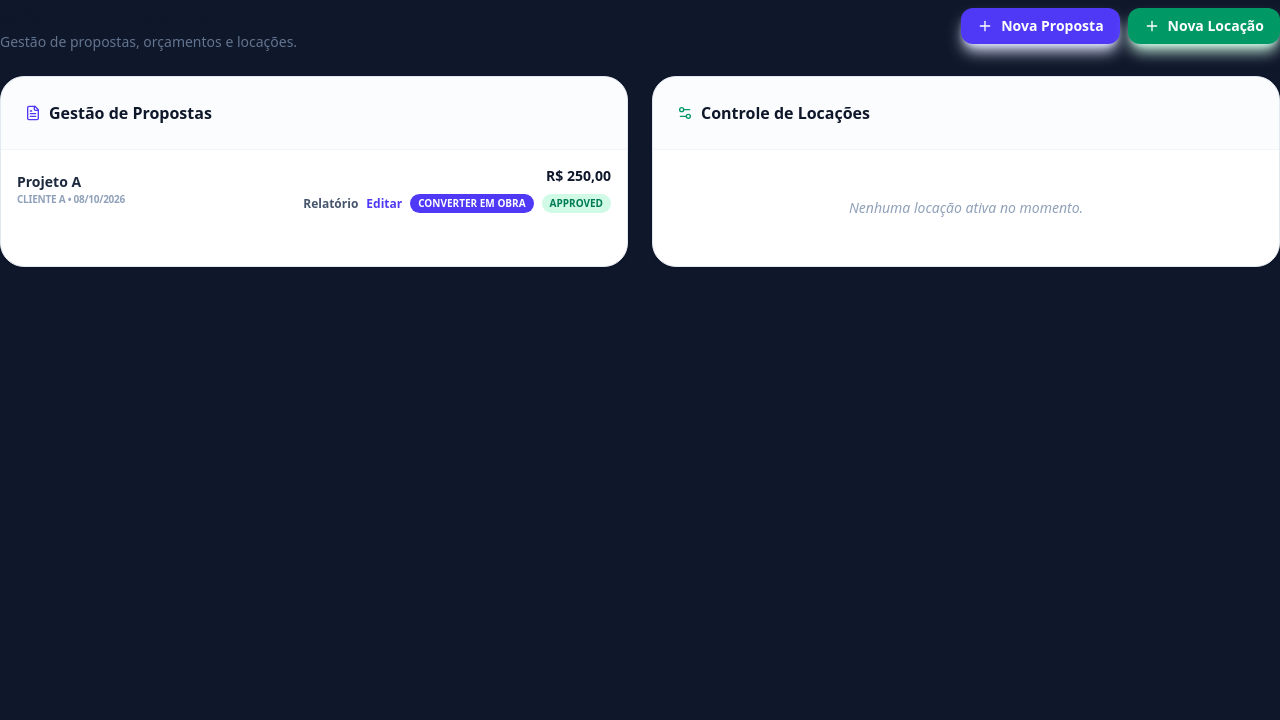
Test case: report button opens the selected proposal with the active company
Click the button with aria-label "Relatório da proposta Projeto A" at (331, 204), box [303,196,358,212]
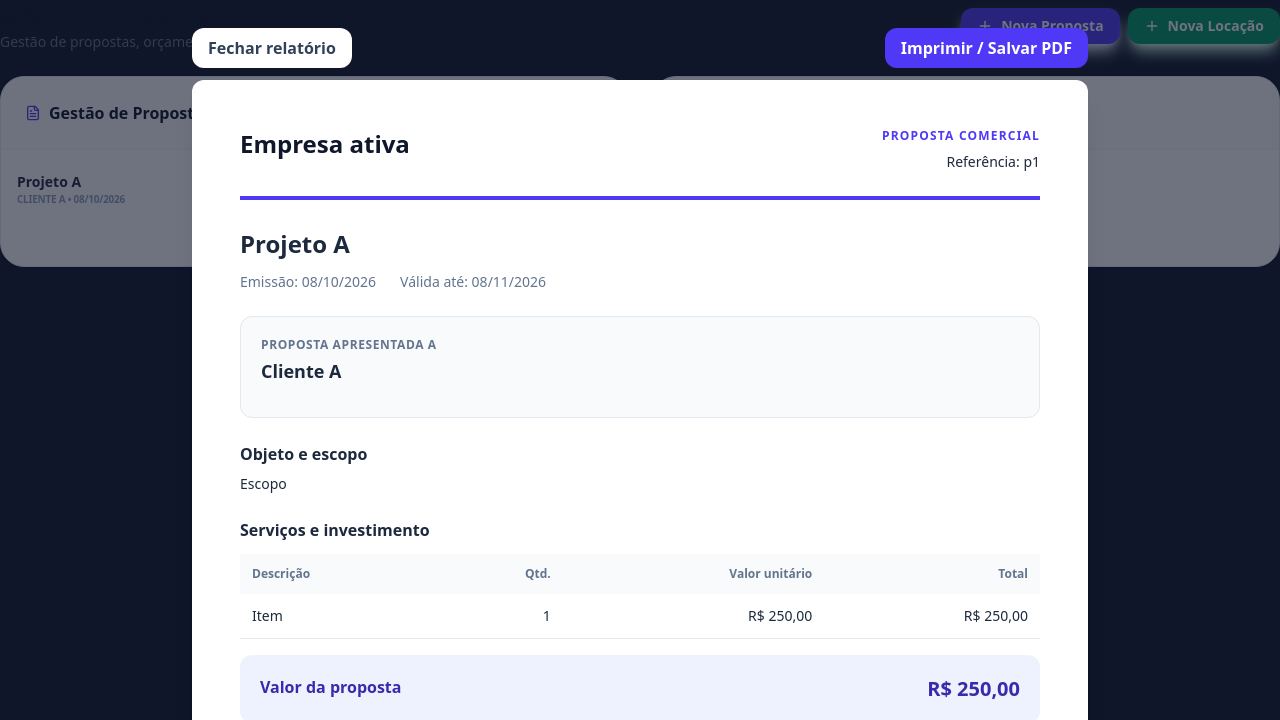
Check: the dialog named "Relatório da proposta" is shown
Check: the text "Empresa ativa" is shown 2 times
Click the button "Fechar relatório" at (272, 48), box [192,28,352,68]
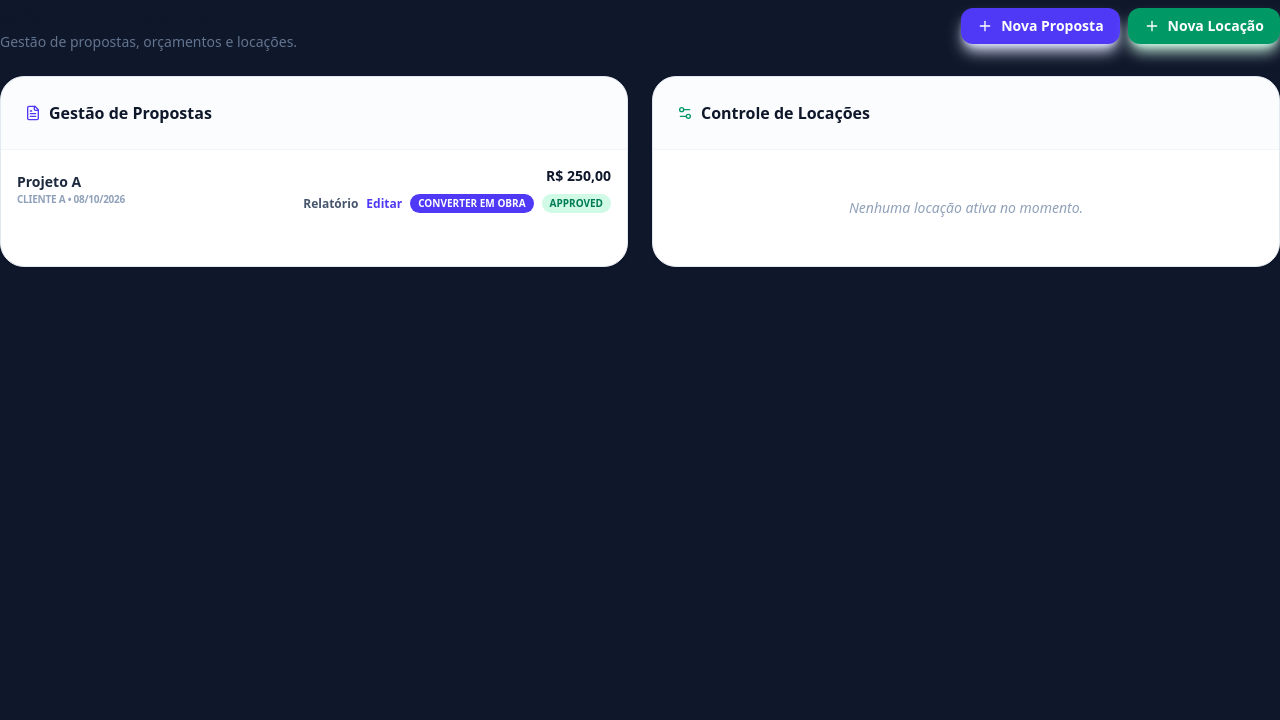
Check: the dialog is gone
